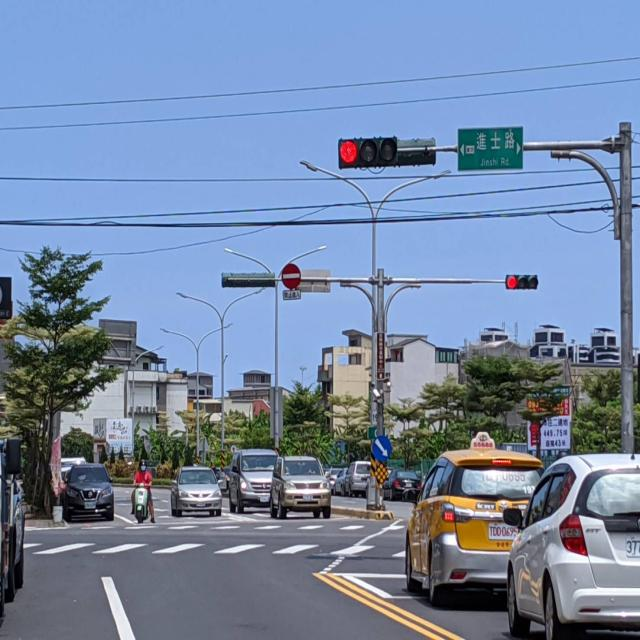red light: (339, 134, 400, 166), (505, 272, 540, 287)
